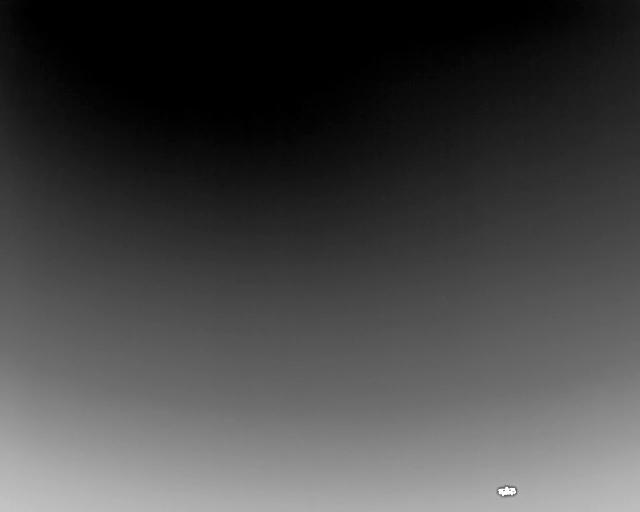fpv-drone: (496, 485, 517, 497)
